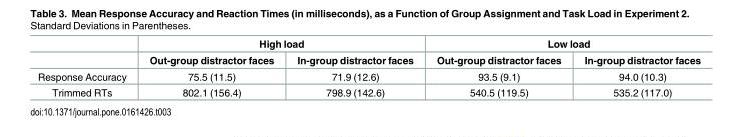table: (36, 37, 700, 97)
table column: (424, 37, 572, 97), (137, 37, 284, 97), (284, 37, 424, 97), (572, 37, 700, 97), (36, 37, 137, 97)
table column header: (36, 37, 700, 67)
table row: (36, 67, 700, 84), (36, 51, 700, 67), (36, 37, 700, 51), (36, 84, 700, 97)
table spanning cell: (137, 37, 424, 51), (424, 37, 700, 51)
